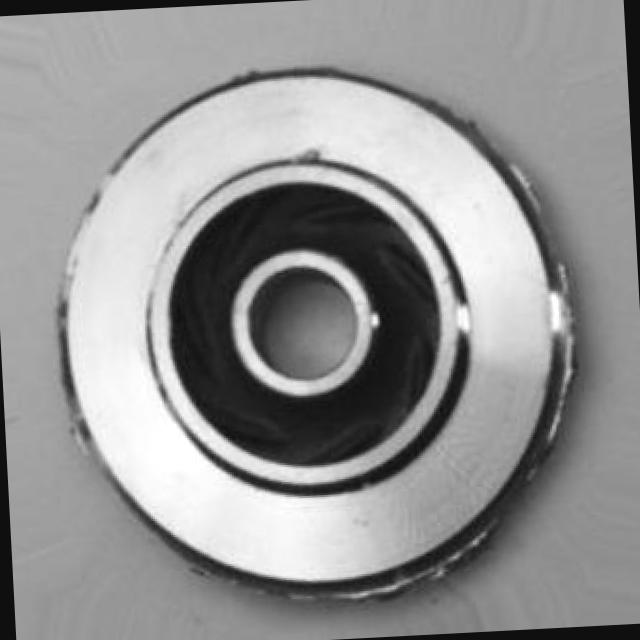Defect: (549, 282, 590, 399)
